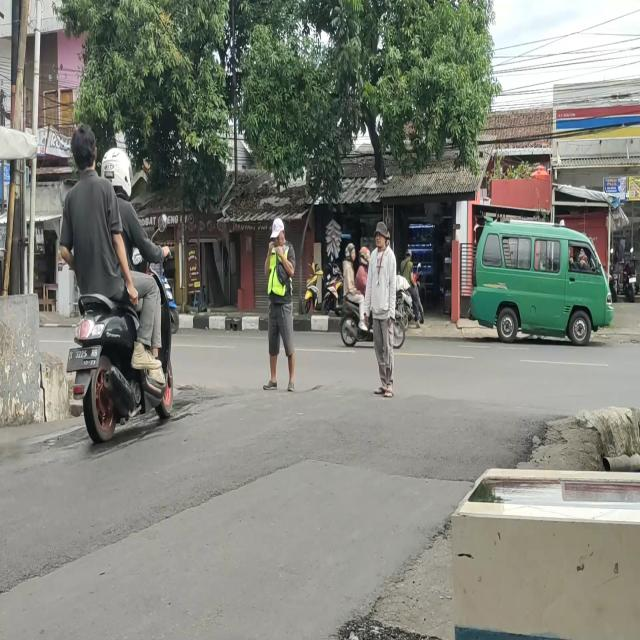helmet: (103, 150, 133, 194)
no-helmet: (70, 122, 98, 175)
